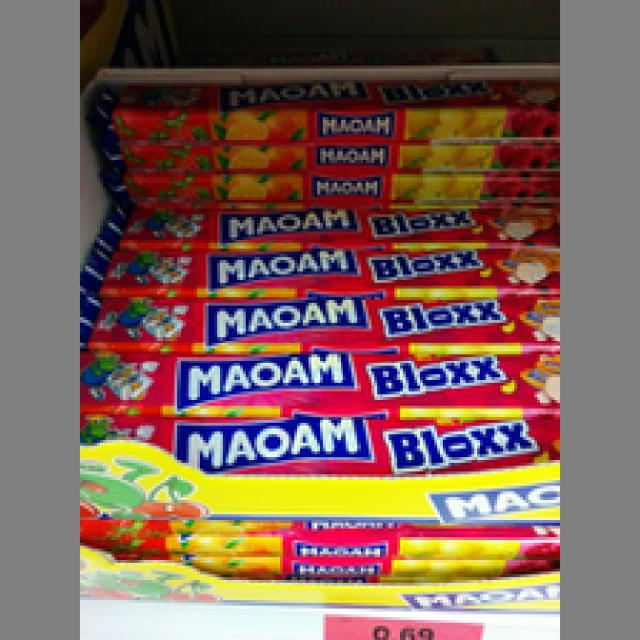groceries: (86, 83, 554, 203), (77, 412, 560, 528), (77, 332, 557, 414), (77, 280, 560, 349), (80, 231, 557, 283)
